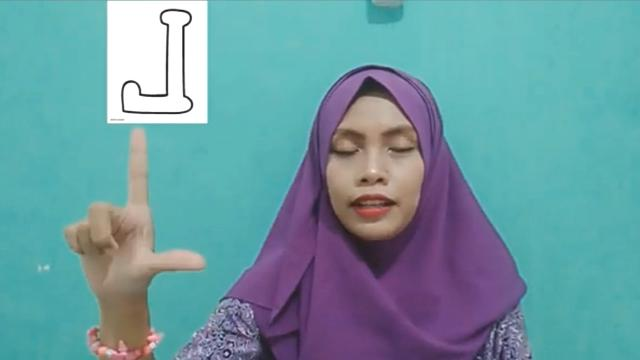L: (62, 126, 206, 296)
